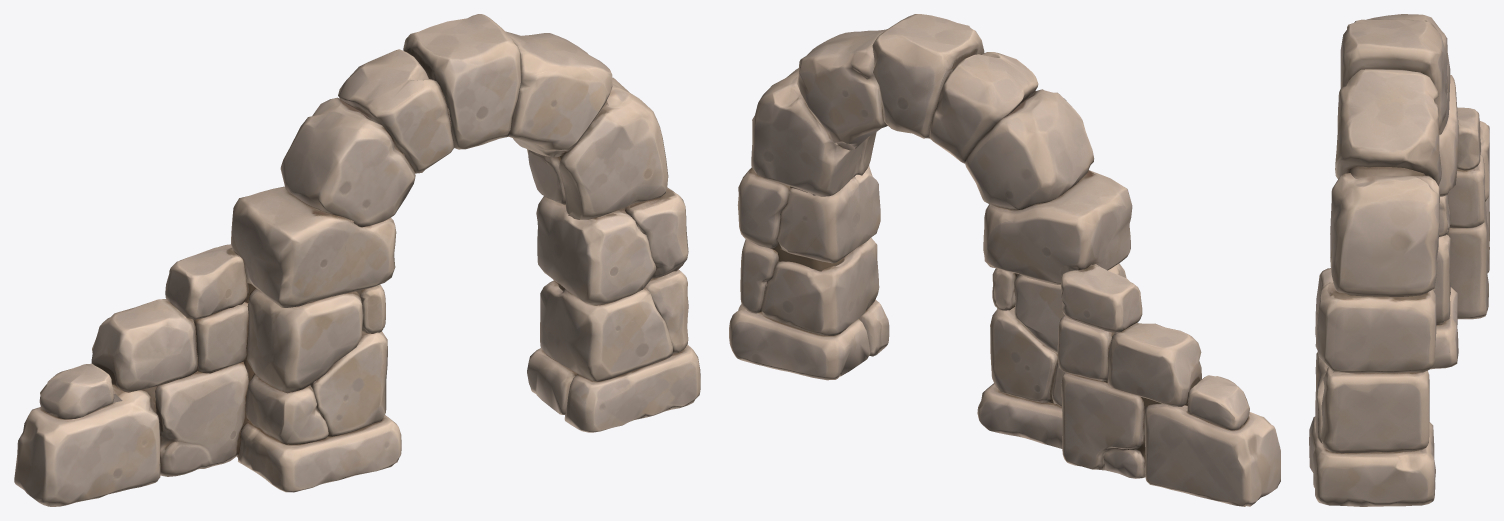
Rendered from ruins.glb.
The picture shows the model from 3 angles, left to right: view 1: azimuth 30°, elevation 25°; view 2: azimuth 150°, elevation 25°; view 3: azimuth 270°, elevation 25°; orthographic projection. The views are drawn at different scales.
Bounding box in the file's own units: 0.9551 × 0.5874 × 0.251.
1 material, 1 textured.
